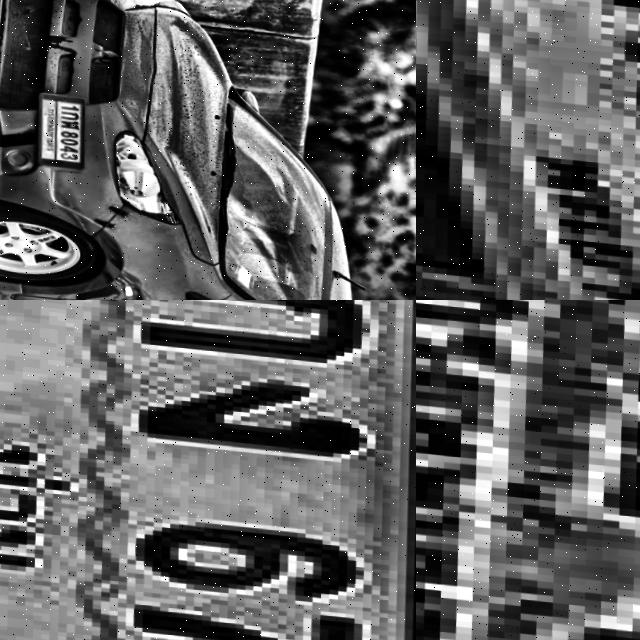license-plate: (0, 300, 416, 640), (416, 300, 640, 640), (416, 0, 640, 300), (31, 90, 84, 167)
